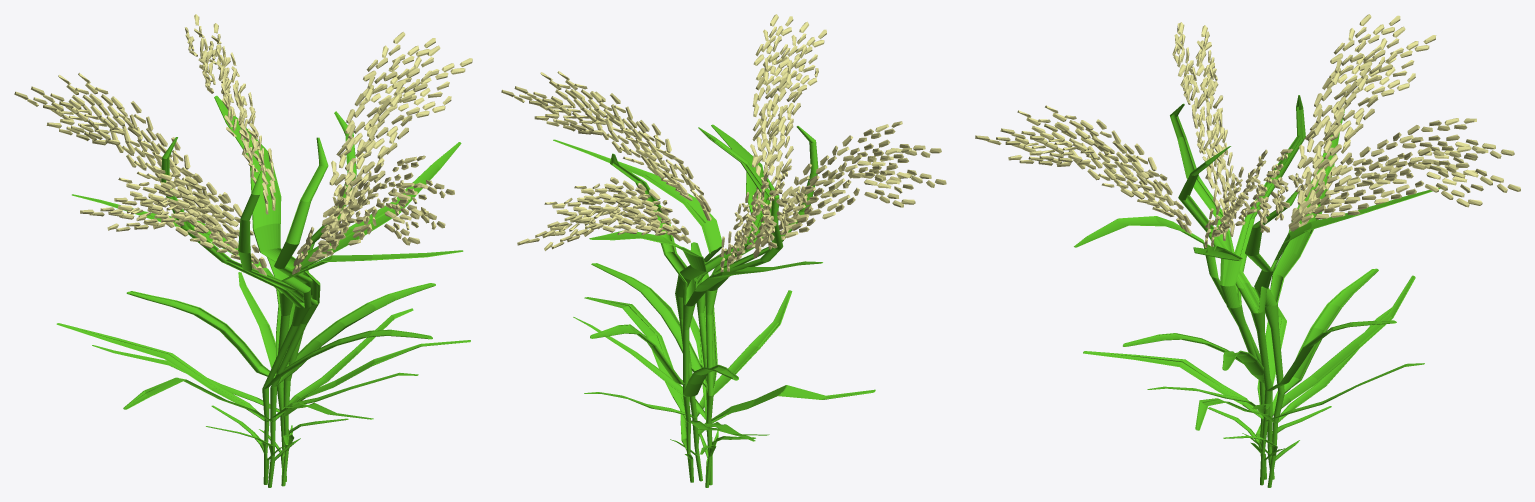
Rendered from rice3.fbx.
3 renders of one model, left to right at view 1: azimuth 30°, elevation 25°; view 2: azimuth 150°, elevation 25°; view 3: azimuth 270°, elevation 25°, orthographic. The views are drawn at different scales.
Parts seen in each view (by area): view 1: rice stage 3; view 2: rice stage 3; view 3: rice stage 3.
Part boxes in pixels (<box>): rice stage 3: <box>14,14,472,487</box>; rice stage 3: <box>501,14,946,487</box>; rice stage 3: <box>975,14,1520,487</box>.
Size of the model in its own units: 92.4 by 83.94 by 104.
